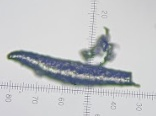microplastic: (6, 49, 143, 89), (80, 26, 118, 65)
